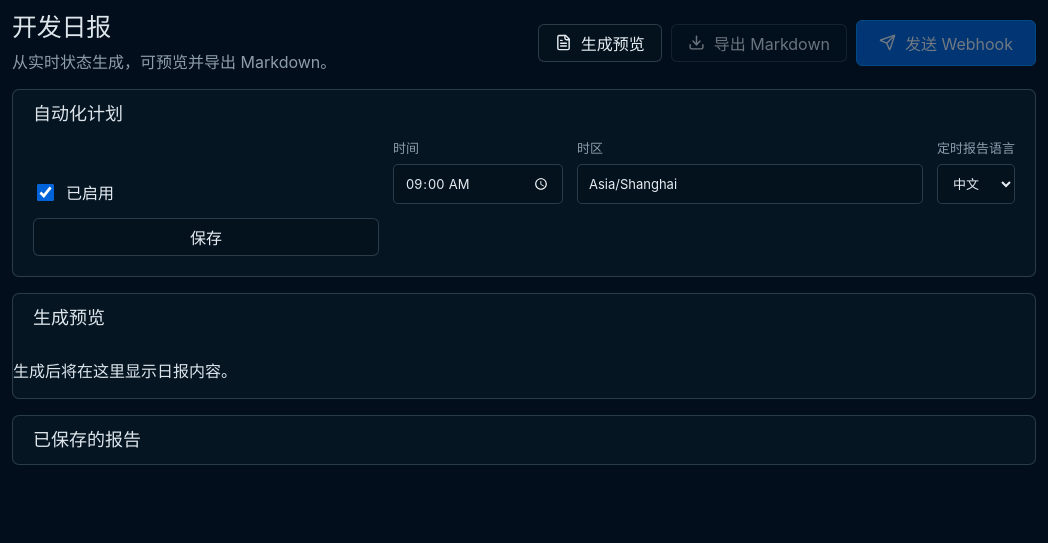
Test: daily report flow › generates and renders a Markdown preview
Click the button "生成预览" at (600, 42), box [538,24,662,62]
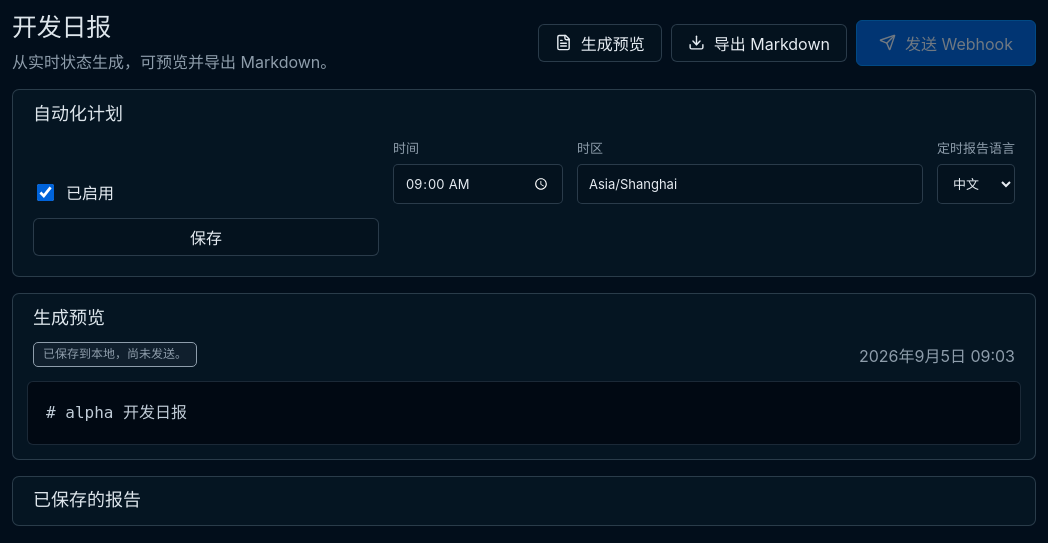
Check: the button "发送 Webhook" is disabled, box [856,20,1036,66]
Check: the text "# alpha 开发日报" is shown, box [27,381,1021,445]
